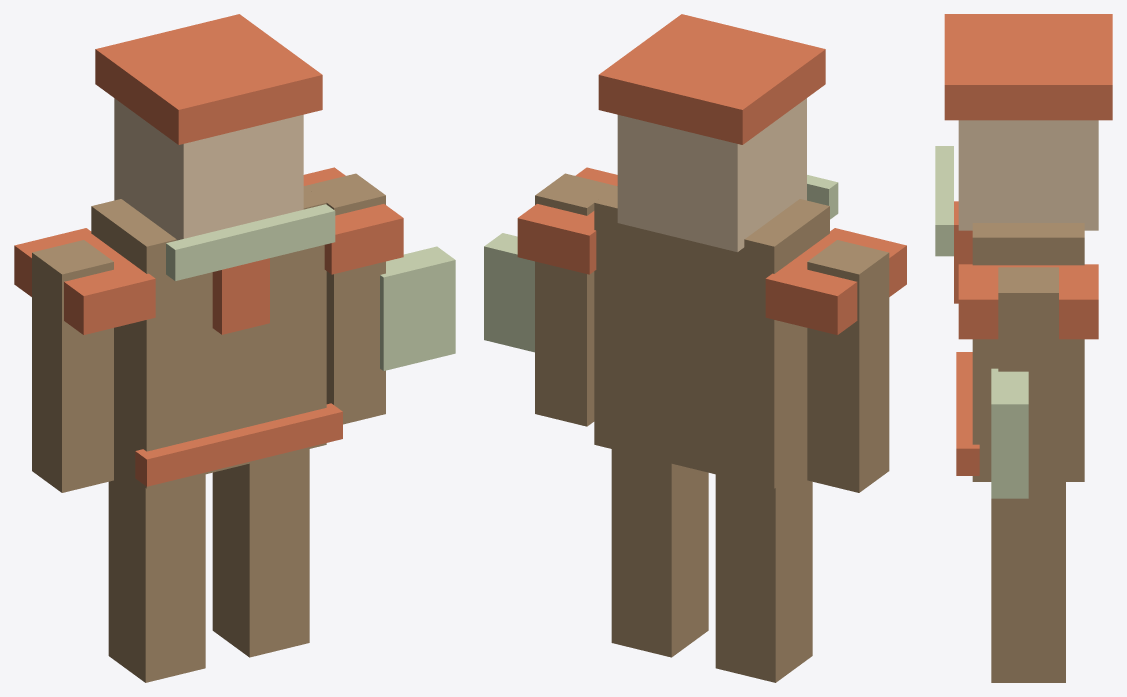
The model's file is 01_soren_tideforged_responder_near_dustline.glb.
3 views of the same model, side by side, from view 1: azimuth 30°, elevation 25°; view 2: azimuth 150°, elevation 25°; view 3: azimuth 270°, elevation 25° (orthographic).
Parts seen in each view (by area): view 1: Soren Tideforged, Responder near Dustline; view 2: Soren Tideforged, Responder near Dustline; view 3: Soren Tideforged, Responder near Dustline.
Boxes of the visible parts, <box> form: Soren Tideforged, Responder near Dustline: <box>14,14,455,682</box>; Soren Tideforged, Responder near Dustline: <box>484,14,906,682</box>; Soren Tideforged, Responder near Dustline: <box>935,14,1112,682</box>.
Size of the model in its own units: 1.03 by 1.49 by 0.4027.
